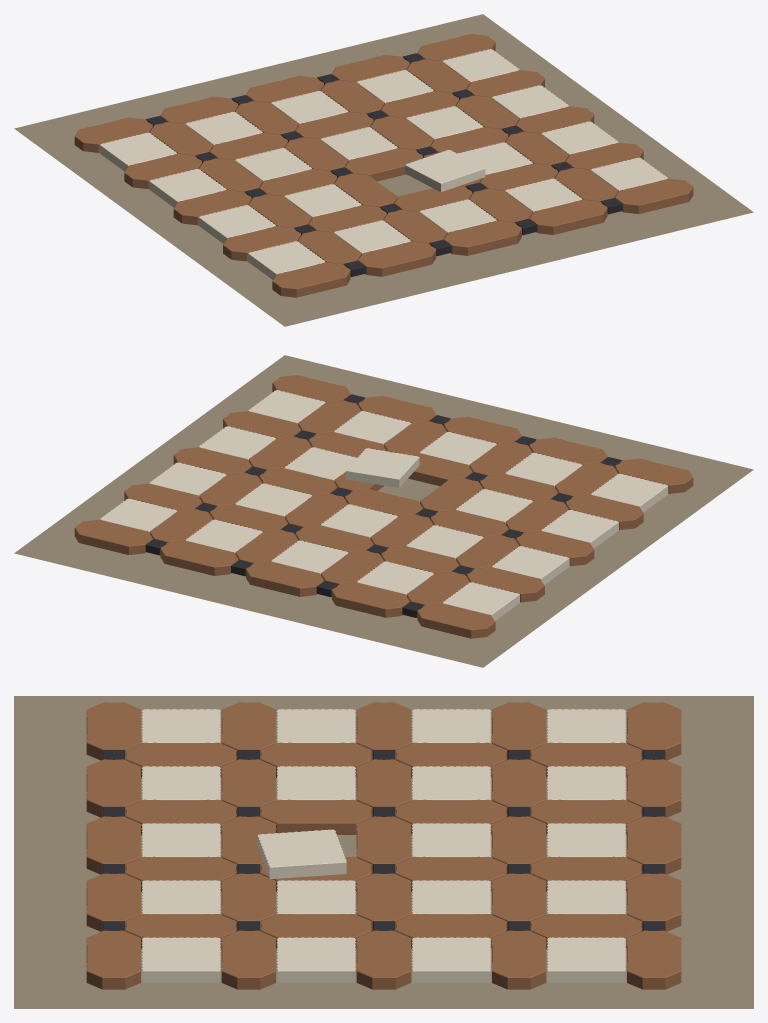
Rendered from terilgan.glb.
The picture shows the model from 3 angles, top to bottom: view 1: azimuth 30°, elevation 25°; view 2: azimuth 150°, elevation 25°; view 3: azimuth 270°, elevation 25°; orthographic projection. The views are drawn at different scales.
Parts seen in each view (by area): view 1: qum, t.042, t, t.018, t.072, t.054, t.036, t.006, t.002, t.010, t.014, t.043 (+49 smaller); view 2: qum, t.042, t.015, t.033, t.080, t.069, t.051, t.010, t.014, t.006, t.002, t.007 (+49 smaller); view 3: qum, t.042, t.073, t.079, t.075, t.077, t.026, t.076, t.074, t.078, t.072, t.080 (+50 smaller).
Part boxes in pixels (bbox=[...]): qum: bbox=[14, 14, 753, 326]; t.042: bbox=[405, 150, 485, 191]; t: bbox=[272, 262, 350, 297]; t.018: bbox=[358, 241, 436, 276]; t.072: bbox=[615, 178, 693, 213]; t.054: bbox=[529, 199, 607, 234]; t.036: bbox=[443, 220, 521, 255]; t.006: bbox=[198, 205, 275, 243]; t.002: bbox=[248, 241, 325, 279]; t.010: bbox=[149, 169, 226, 207]; t.014: bbox=[99, 132, 176, 171]; t.043: bbox=[345, 148, 422, 181]; qum: bbox=[14, 355, 753, 667]; t.042: bbox=[346, 448, 419, 487]; t.015: bbox=[417, 603, 495, 638]; t.033: bbox=[331, 582, 409, 617]; t.080: bbox=[74, 519, 152, 554]; t.069: bbox=[160, 540, 238, 575]; t.051: bbox=[246, 561, 324, 596]; t.010: bbox=[492, 546, 569, 584]; t.014: bbox=[442, 582, 519, 620]; t.006: bbox=[541, 510, 618, 548]; t.002: bbox=[591, 473, 668, 512]; t.007: bbox=[516, 531, 594, 566]; qum: bbox=[14, 696, 753, 1008]; t.042: bbox=[257, 829, 346, 879]; t.073: bbox=[142, 937, 220, 982]; t.079: bbox=[547, 937, 625, 982]; t.075: bbox=[277, 937, 355, 982]; t.077: bbox=[412, 937, 490, 982]; t.026: bbox=[261, 799, 371, 834]; t.076: bbox=[356, 930, 411, 989]; t.074: bbox=[221, 930, 276, 989]; t.078: bbox=[491, 930, 546, 989]; t.072: bbox=[86, 930, 141, 989]; t.080: bbox=[626, 930, 681, 989].
Size of the model in its own units: 1.66 by 0.062 by 1.66.
